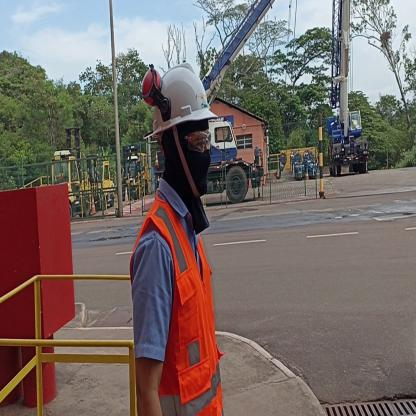Balaclava: (162, 130, 210, 194)
Capacete: (144, 60, 217, 122)
colete: (164, 218, 230, 416)
